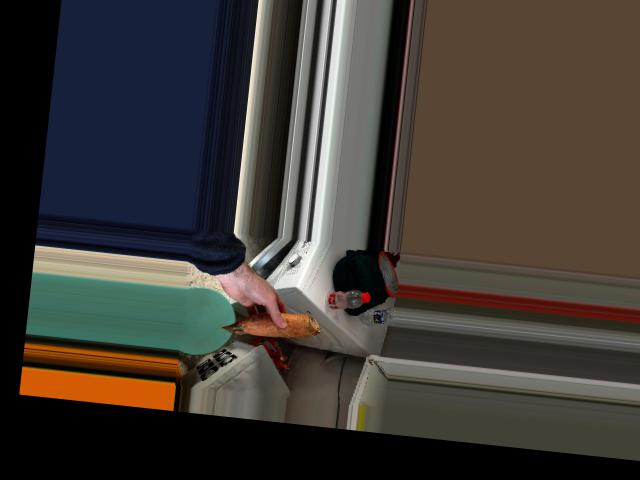sweet_potato: (223, 300, 313, 341)
